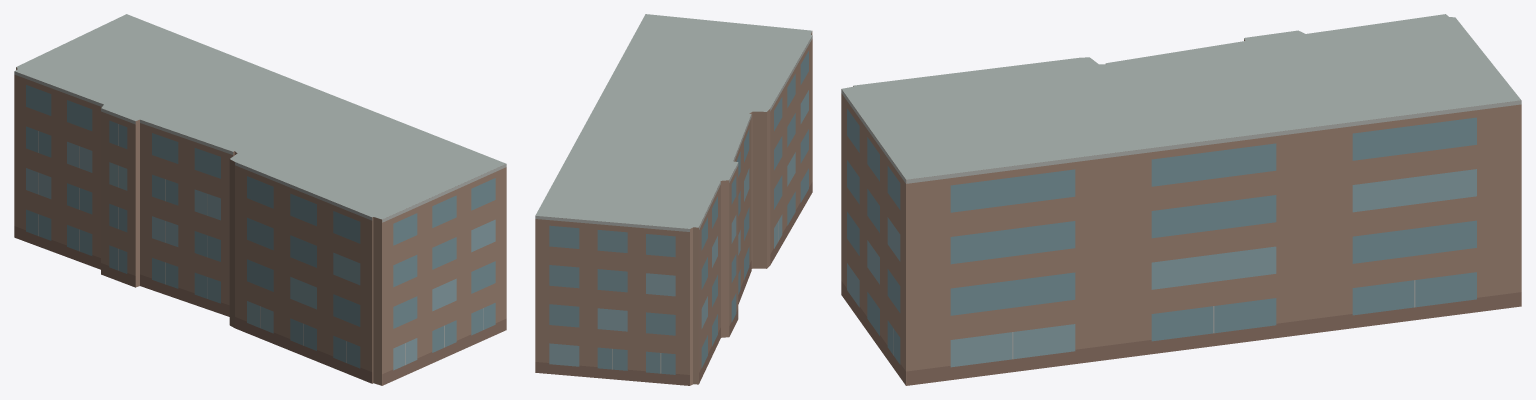
Rendered from survey-upis-32929788.glb.
3 renders of one model, left to right at view 1: azimuth 30°, elevation 25°; view 2: azimuth 150°, elevation 25°; view 3: azimuth 270°, elevation 25°, orthographic. The views are drawn at different scales.
Visible parts, largest first — view 1: survey-upis-32929788.tmp; view 2: survey-upis-32929788.tmp; view 3: survey-upis-32929788.tmp.
Part boxes in pixels (box(x1,y1,x2,y2)): survey-upis-32929788.tmp: box(14, 14, 506, 385); survey-upis-32929788.tmp: box(535, 14, 812, 385); survey-upis-32929788.tmp: box(841, 14, 1521, 385).
Bounding box in the file's own units: 21.05 × 12.2 × 36.49.
